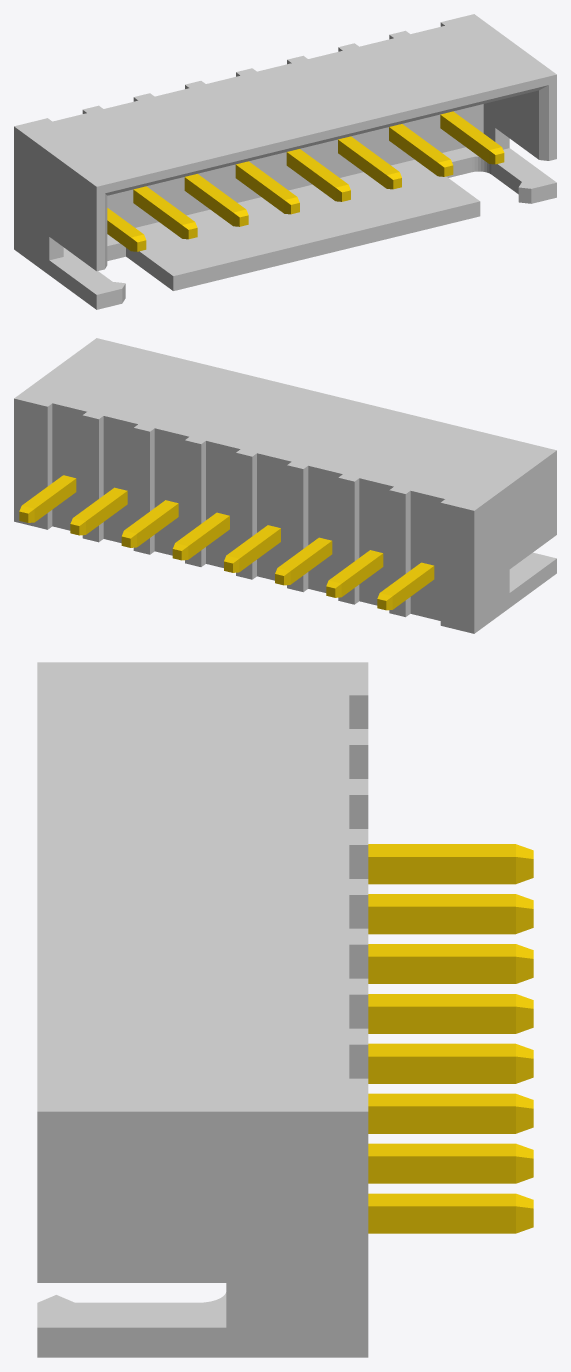
The model's file is DS1069-8 CWF-8.obj.
3 views of the same model, one above another, from view 1: azimuth 30°, elevation 25°; view 2: azimuth 150°, elevation 25°; view 3: azimuth 270°, elevation 25° (orthographic). The views are drawn at different scales.
Visible parts, largest first — view 1: DS1069-8_CWF-8; view 2: DS1069-8_CWF-8; view 3: DS1069-8_CWF-8.
Part boxes in pixels (x1,y1,x2,y2): DS1069-8_CWF-8: (14,14,556,309); DS1069-8_CWF-8: (14,338,556,633); DS1069-8_CWF-8: (37,662,533,1357).
Size of the model in its own units: 0.0139 by 0.00354 by 0.00647.
